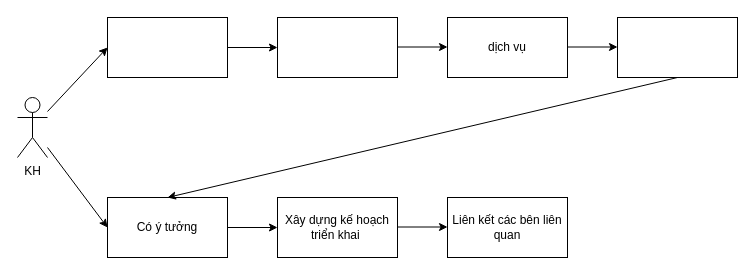
Some shapes in this 755 by 275 pixel diagram are drawn without their labels. The shapes that lost their labels are listed below. From the top down, each one's centre as x and y in pixels, then its label:
At [167,47]: "Chưa có ý tưởng".
At [337,47]: "tìm ý tưởng từ Hệ Thông gợi ý".
At [677,47]: "Tài liệu tổng quan để khách hàng so sánh lựa chọn dịch vụ".
